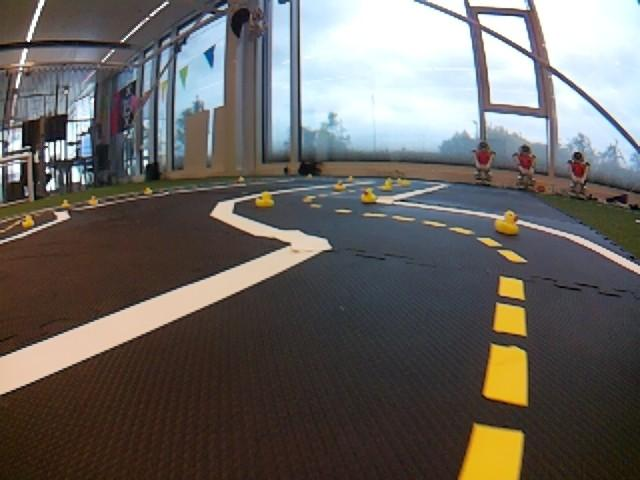Duckies: (495, 209, 521, 235), (254, 189, 276, 209), (360, 186, 379, 205), (22, 214, 37, 228), (332, 178, 346, 192), (379, 179, 393, 192), (86, 195, 100, 205), (400, 178, 411, 188), (60, 199, 71, 208), (143, 186, 153, 195), (237, 174, 246, 183), (307, 173, 314, 180), (346, 176, 354, 182)
